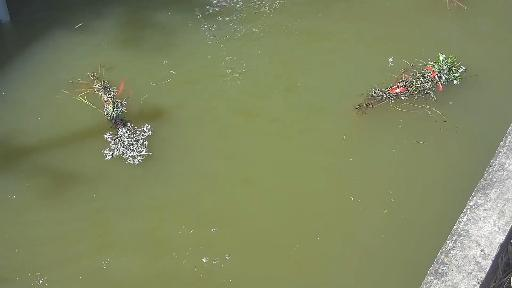twig: (64, 66, 161, 165), (349, 49, 473, 126)
